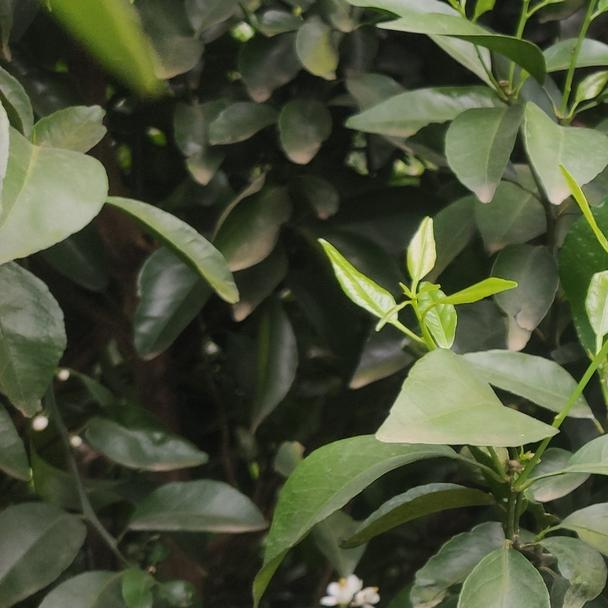shoot: (325, 212, 511, 361)
